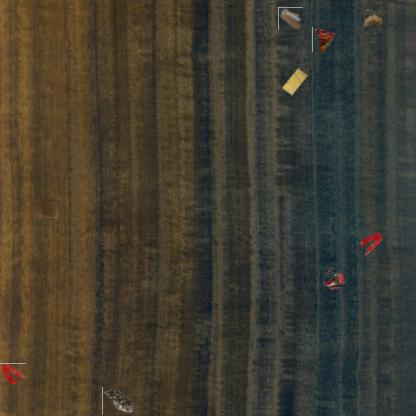dirty: (102, 388, 135, 416), (280, 66, 310, 96), (312, 26, 337, 52), (278, 6, 303, 31), (31, 200, 59, 221), (363, 9, 383, 29), (325, 270, 344, 289)
liquid: (359, 231, 383, 257), (0, 363, 26, 384)
